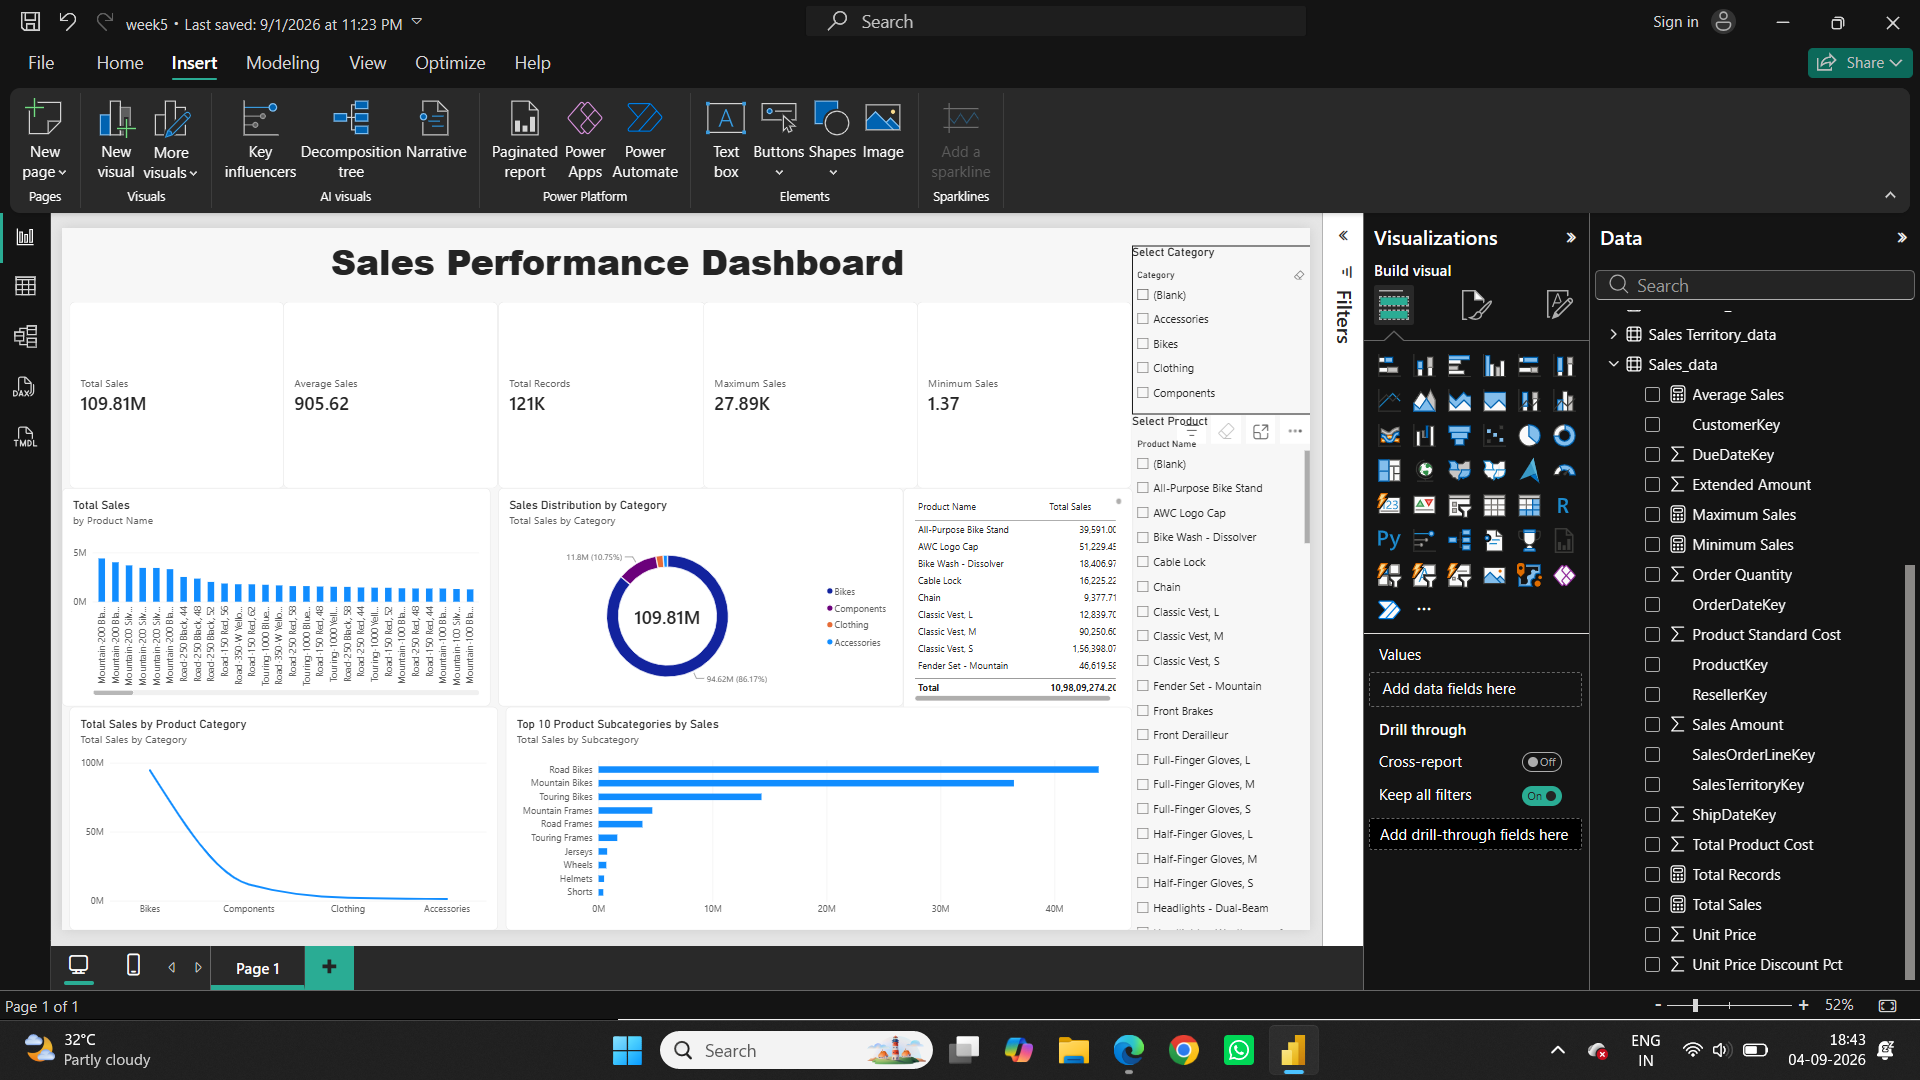

Layout of this report page (visuals, bound fields, positions):
{"tool":"powerbi","page":{"name":"Page 1","canvas":[1920,1080],"ordinal":0},"visuals":[{"type":"cardVisual","fields":{"Data":["Sales_data.Total Sales"]},"box":[11.3,113.3,330.4,287],"z":0},{"type":"cardVisual","fields":{"Data":["Sales_data.Total Records"]},"box":[670.3,113.3,319.1,287],"z":1000},{"type":"cardVisual","fields":{"Data":["Sales_data.Average Sales"]},"box":[339.9,113.3,330,287],"z":2000},{"type":"cardVisual","fields":{"Data":["Sales_data.Maximum Sales"]},"box":[985.7,113.3,330.4,287],"z":3000},{"type":"cardVisual","fields":{"Data":["Sales_data.Minimum Sales"]},"box":[1316.1,113.3,330,287],"z":4000},{"type":"clusteredColumnChart","fields":{"Category":["Product_data.Product Name"],"Y":["Sales_data.Total Sales"]},"box":[0,400.3,659,336.1],"z":5000},{"type":"lineChart","title":"Total Sales by Product Category","fields":{"Category":["Product_data.Category"],"Y":["Sales_data.Total Sales"]},"box":[11.3,736.4,659,343.7],"z":6000},{"type":"donutChart","title":"Sales Distribution by Category","fields":{"Category":["Product_data.Category"],"Y":["Sales_data.Total Sales"]},"box":[670,400,594.4,336.7],"z":6001},{"type":"tableEx","fields":{"Values":["Product_data.Product Name","Sales_data.Total Sales"]},"box":[1264.4,400,382.2,345.6],"z":6002},{"type":"slicer","title":"Select Category","fields":{"Values":["Product_data.Category"]},"box":[1646.6,26.4,273.8,260.6],"z":6003},{"type":"slicer","title":"Select Product","fields":{"Values":["Product_data.Product Name"]},"box":[1646.6,287,273.8,793.1],"z":6004},{"type":"textbox","box":[11,918,444,162],"z":6005},{"type":"textbox","box":[413.5,13.2,1200.9,100.1],"z":6006},{"type":"clusteredBarChart","title":"Top 10 Product Subcategories by Sales","fields":{"Category":["Product_data.Subcategory"],"Y":["Sales_data.Total Sales"]},"box":[683.6,736.4,963,343.7],"z":6007}]}

Visuals, with their boxes on the page's 1920x1080 design canvas (x1, y1, x2, y2). These are canvas units, not pixel positions in the 1920x1080 screenshot, which may show the page scaled, cropped or inside an application window:
cardVisual - Sales_data.Total Sales: pyautogui.locateOnScreen(11, 113, 342, 400)
cardVisual - Sales_data.Total Records: pyautogui.locateOnScreen(670, 113, 989, 400)
cardVisual - Sales_data.Average Sales: pyautogui.locateOnScreen(340, 113, 670, 400)
cardVisual - Sales_data.Maximum Sales: pyautogui.locateOnScreen(986, 113, 1316, 400)
cardVisual - Sales_data.Minimum Sales: pyautogui.locateOnScreen(1316, 113, 1646, 400)
clusteredColumnChart - Product_data.Product Name x Sales_data.Total Sales: pyautogui.locateOnScreen(0, 400, 659, 736)
"Total Sales by Product Category" lineChart: pyautogui.locateOnScreen(11, 736, 670, 1080)
"Sales Distribution by Category" donutChart: pyautogui.locateOnScreen(670, 400, 1264, 737)
tableEx - Product_data.Product Name x Sales_data.Total Sales: pyautogui.locateOnScreen(1264, 400, 1647, 746)
"Select Category" slicer: pyautogui.locateOnScreen(1647, 26, 1920, 287)
"Select Product" slicer: pyautogui.locateOnScreen(1647, 287, 1920, 1080)
textbox: pyautogui.locateOnScreen(11, 918, 455, 1080)
textbox: pyautogui.locateOnScreen(414, 13, 1614, 113)
"Top 10 Product Subcategories by Sales" clusteredBarChart: pyautogui.locateOnScreen(684, 736, 1647, 1080)
